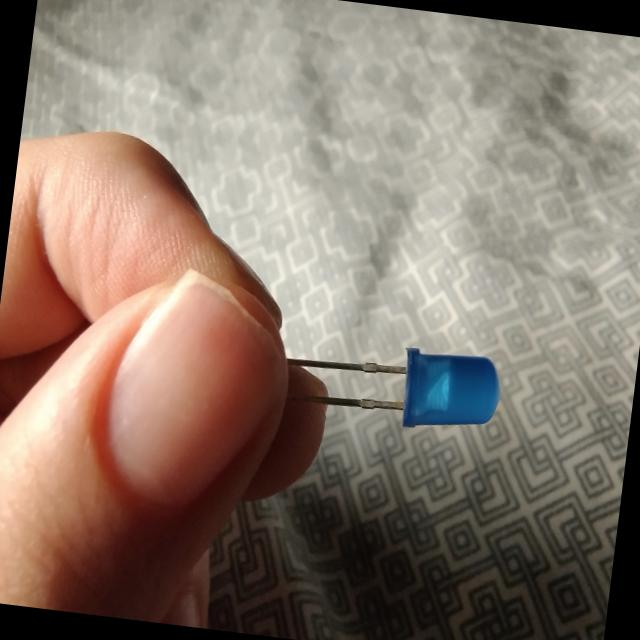blue_led: (396, 344, 504, 439)
